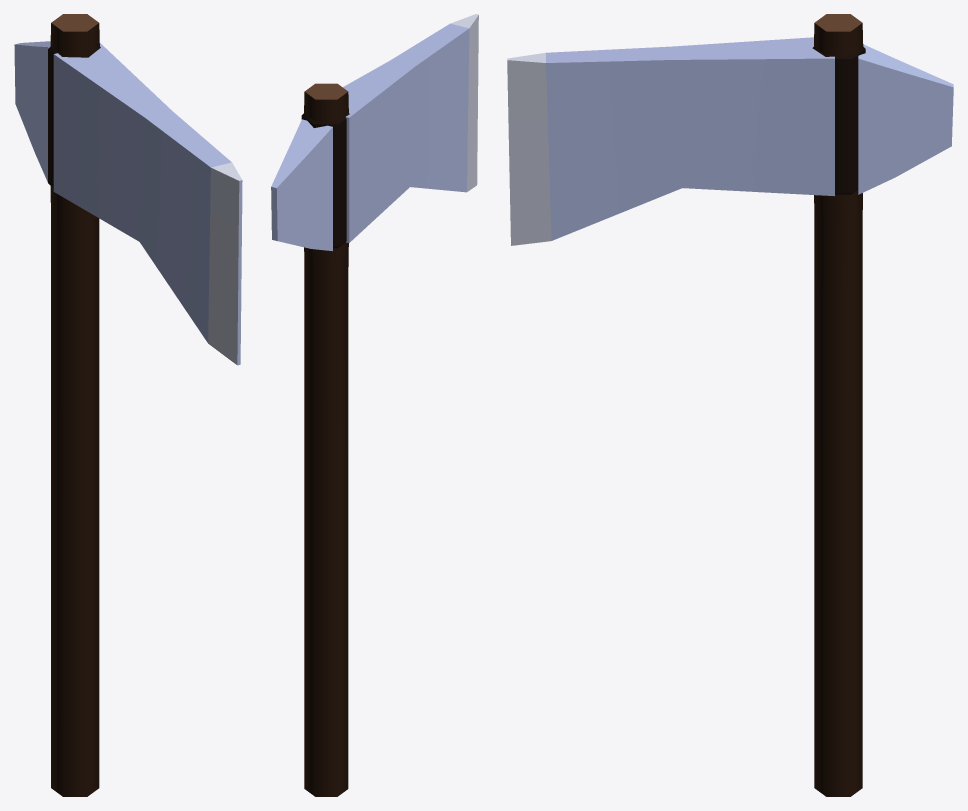
Rendered from Throwing@Tomahawk.fbx.
The picture shows the model from 3 angles, left to right: view 1: azimuth 30°, elevation 25°; view 2: azimuth 150°, elevation 25°; view 3: azimuth 270°, elevation 25°; orthographic projection. The views are drawn at different scales.
Parts seen in each view (by area): view 1: Throwing_Tomahawk; view 2: Throwing_Tomahawk; view 3: Throwing_Tomahawk.
Boxes of the visible parts, x1,y1,x2,y2 form: Throwing_Tomahawk: (14, 14, 242, 796); Throwing_Tomahawk: (271, 14, 478, 796); Throwing_Tomahawk: (507, 14, 953, 796).
Size of the model in its own units: 2.39 by 37.59 by 19.88.
